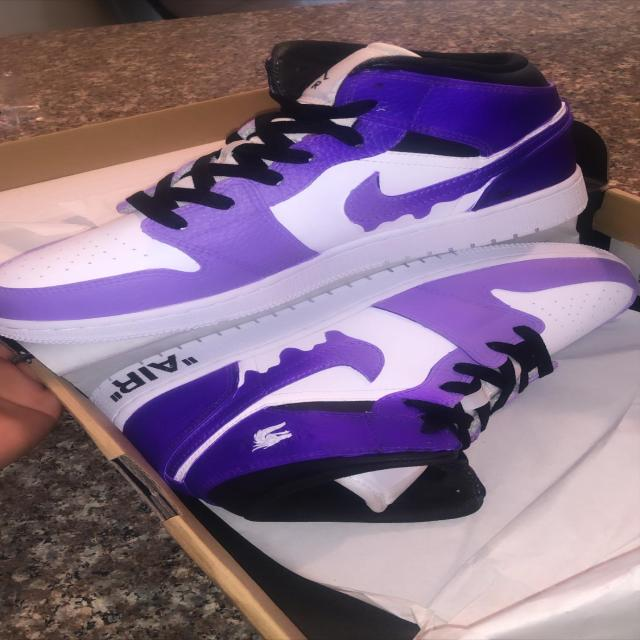shoe: (0, 38, 592, 344), (72, 240, 640, 525)
